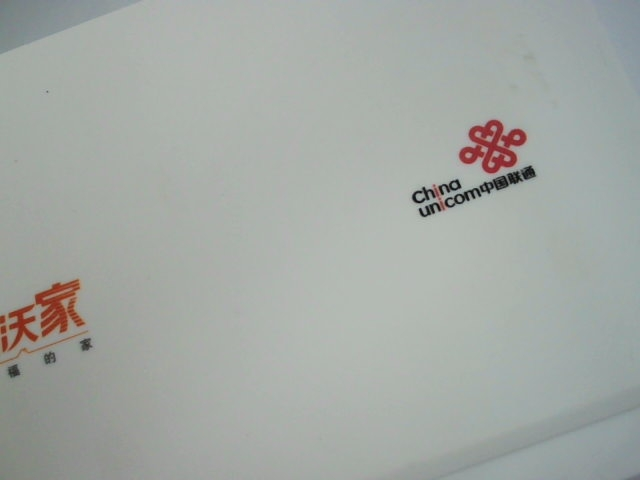ChinaUnicom: (397, 110, 554, 224)
